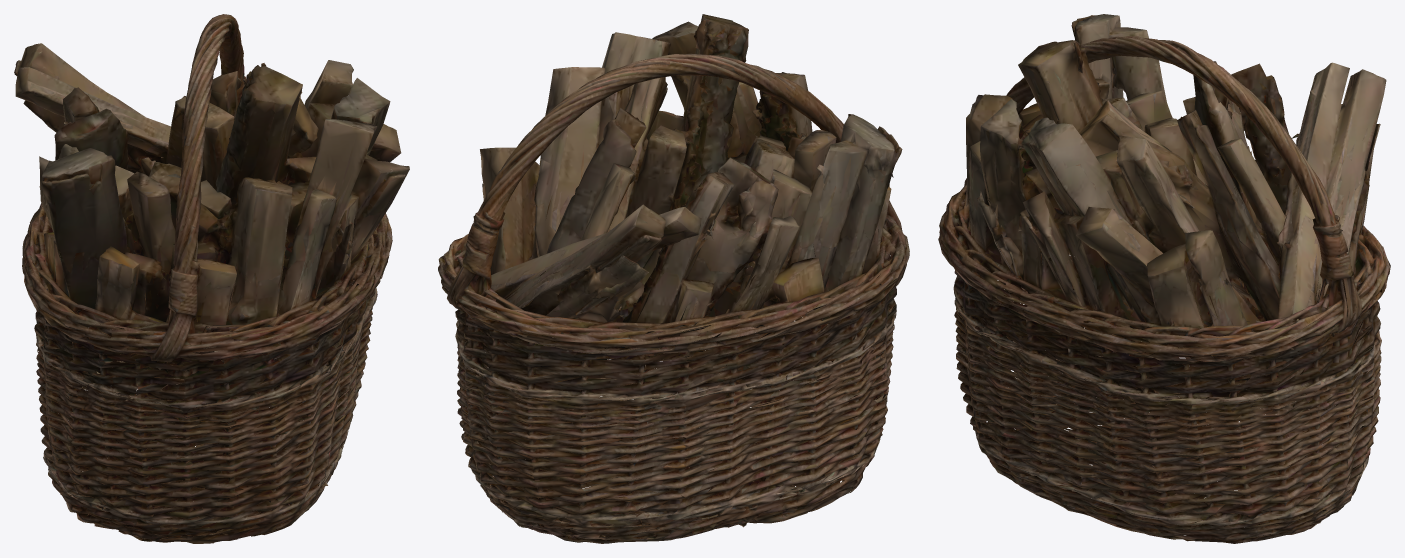
Rendered from wicker_basket_with_firewood.glb.
3 renders of one model, left to right at view 1: azimuth 30°, elevation 25°; view 2: azimuth 150°, elevation 25°; view 3: azimuth 270°, elevation 25°, orthographic. The views are drawn at different scales.
Parts seen in each view (by area): view 1: Object_3, Object_2, Object_4; view 2: Object_3, Object_2, Object_4; view 3: Object_3, Object_2, Object_4.
Boxes of the visible parts, <box> form: Object_3: <box>14,14,409,531</box>; Object_2: <box>22,142,392,543</box>; Object_4: <box>22,143,391,541</box>; Object_3: <box>443,14,906,505</box>; Object_2: <box>438,183,906,543</box>; Object_4: <box>438,155,909,543</box>; Object_3: <box>966,14,1386,543</box>; Object_2: <box>938,123,1390,542</box>; Object_4: <box>954,190,1390,542</box>.
Size of the model in its own units: 8.46 by 9.2 by 8.44.
3 materials, 3 textured.
